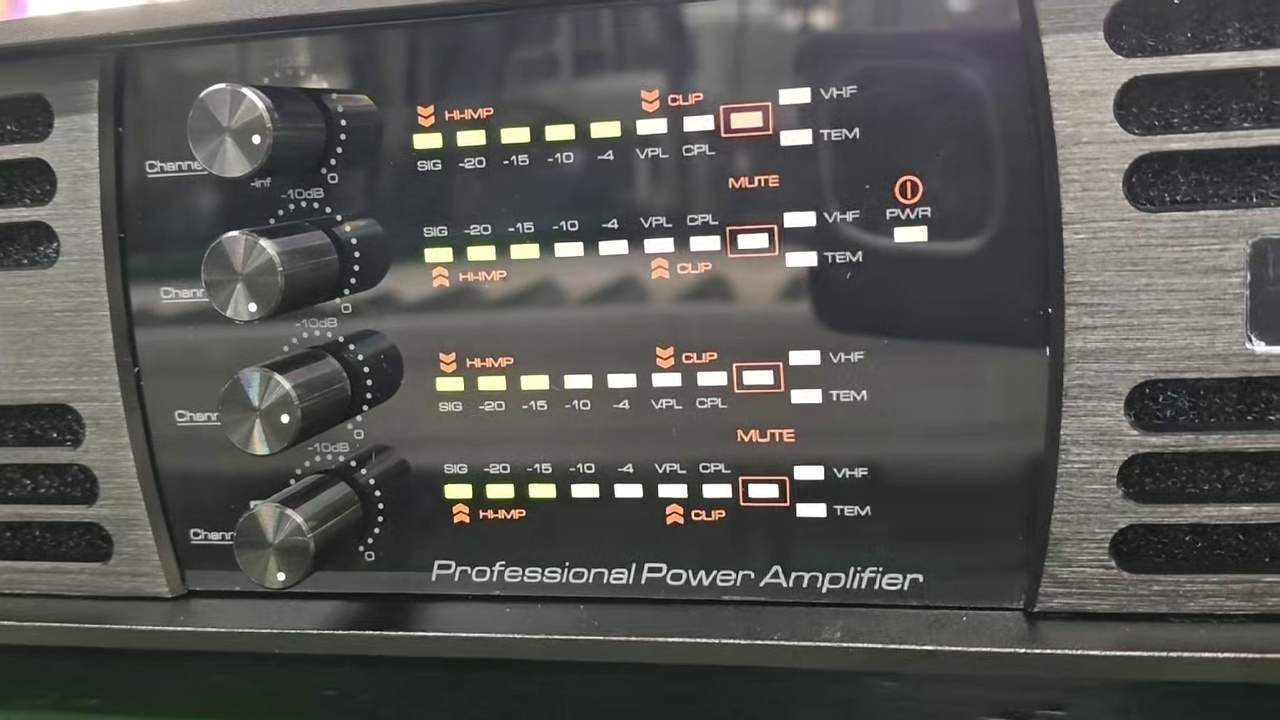FP_CPL: (677, 110, 719, 167), (683, 205, 723, 260), (696, 454, 735, 505), (692, 366, 730, 418)
FP_PWR: (881, 205, 937, 246)
FP_PWR_area: (879, 168, 939, 256)
FP_SIG_area: (405, 87, 876, 175), (417, 205, 864, 290), (429, 341, 872, 420), (437, 454, 876, 532)
FP_VPL: (631, 111, 671, 171), (637, 208, 678, 258), (648, 367, 687, 419), (652, 456, 690, 504)
